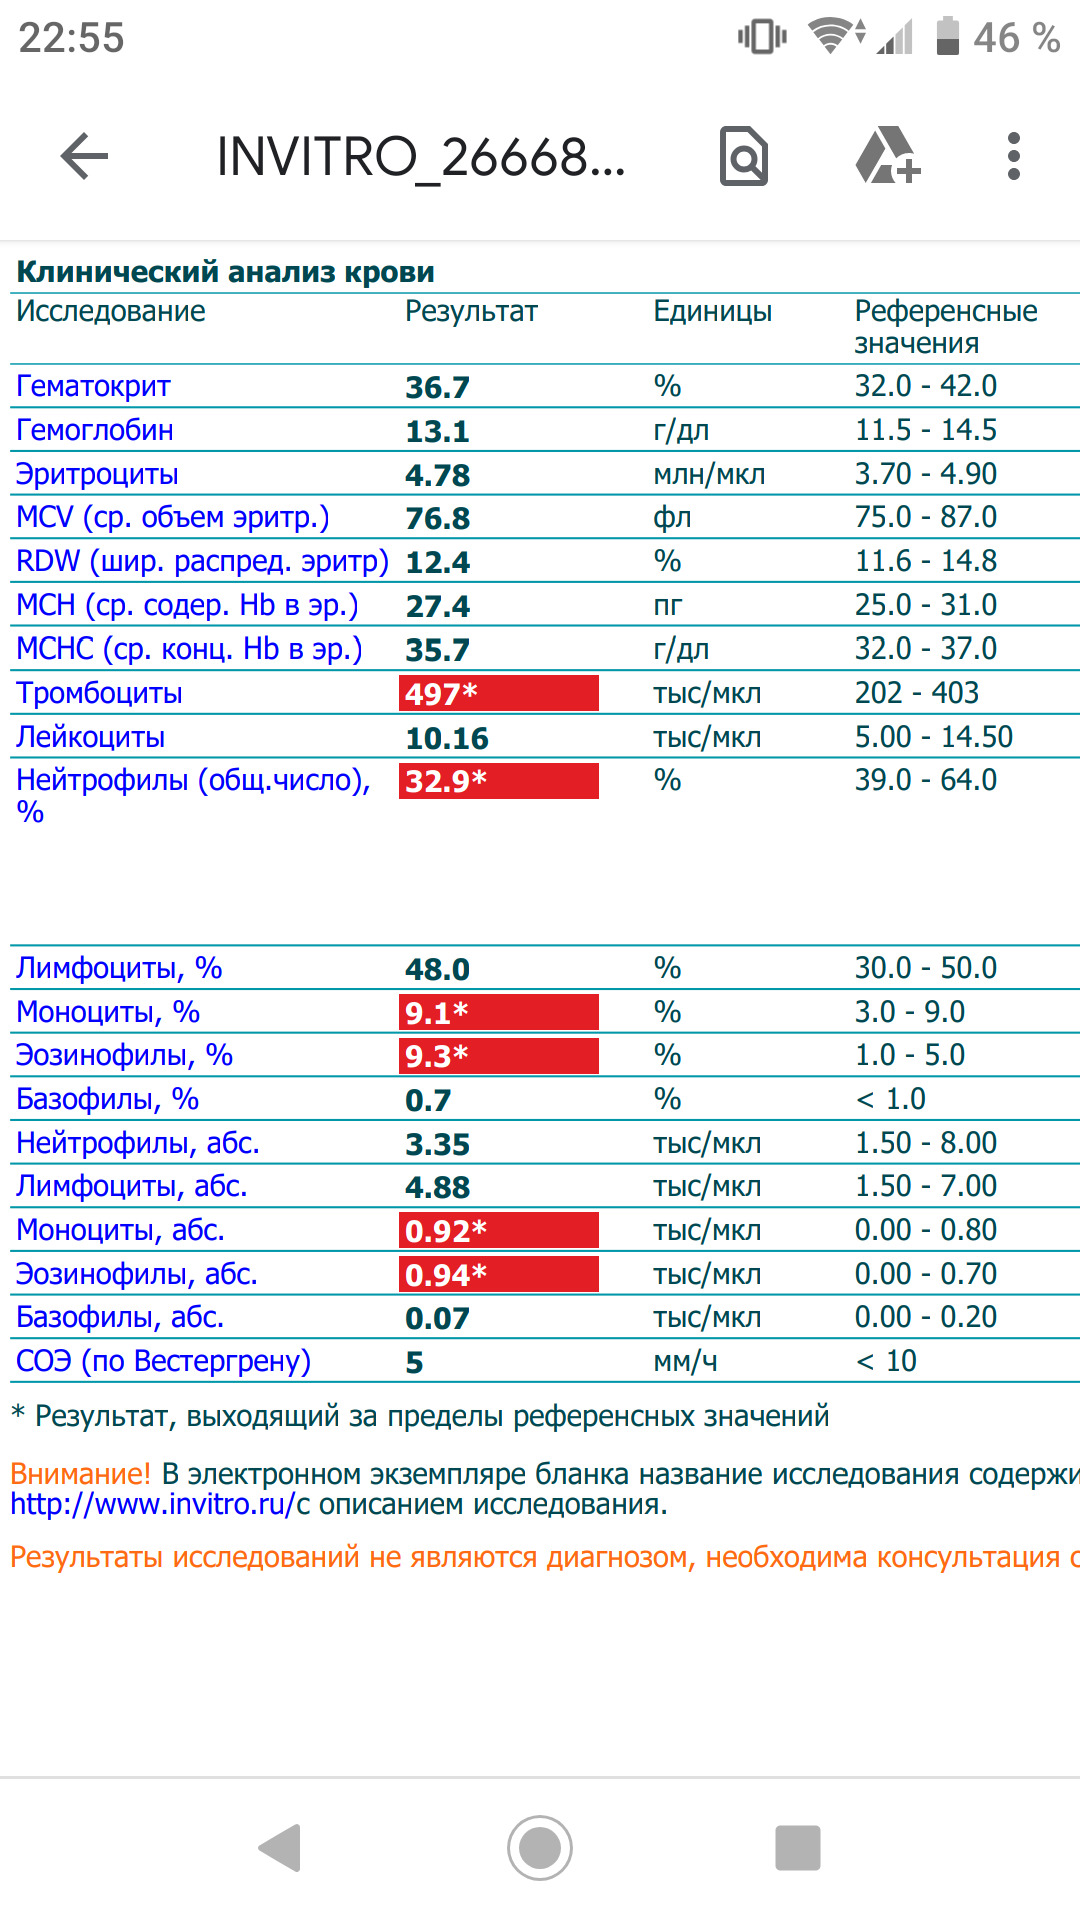column: (16, 291, 389, 1382), (855, 291, 1038, 1382), (405, 291, 539, 1382), (653, 291, 771, 1382)
